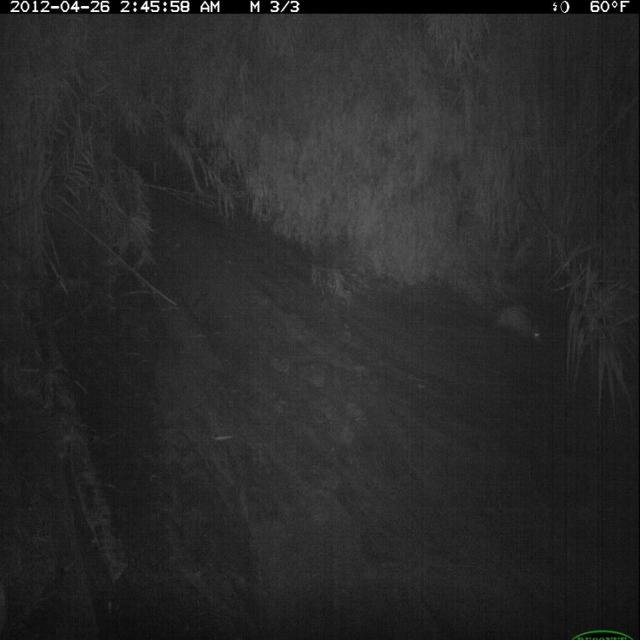opossum: (486, 303, 546, 345)
